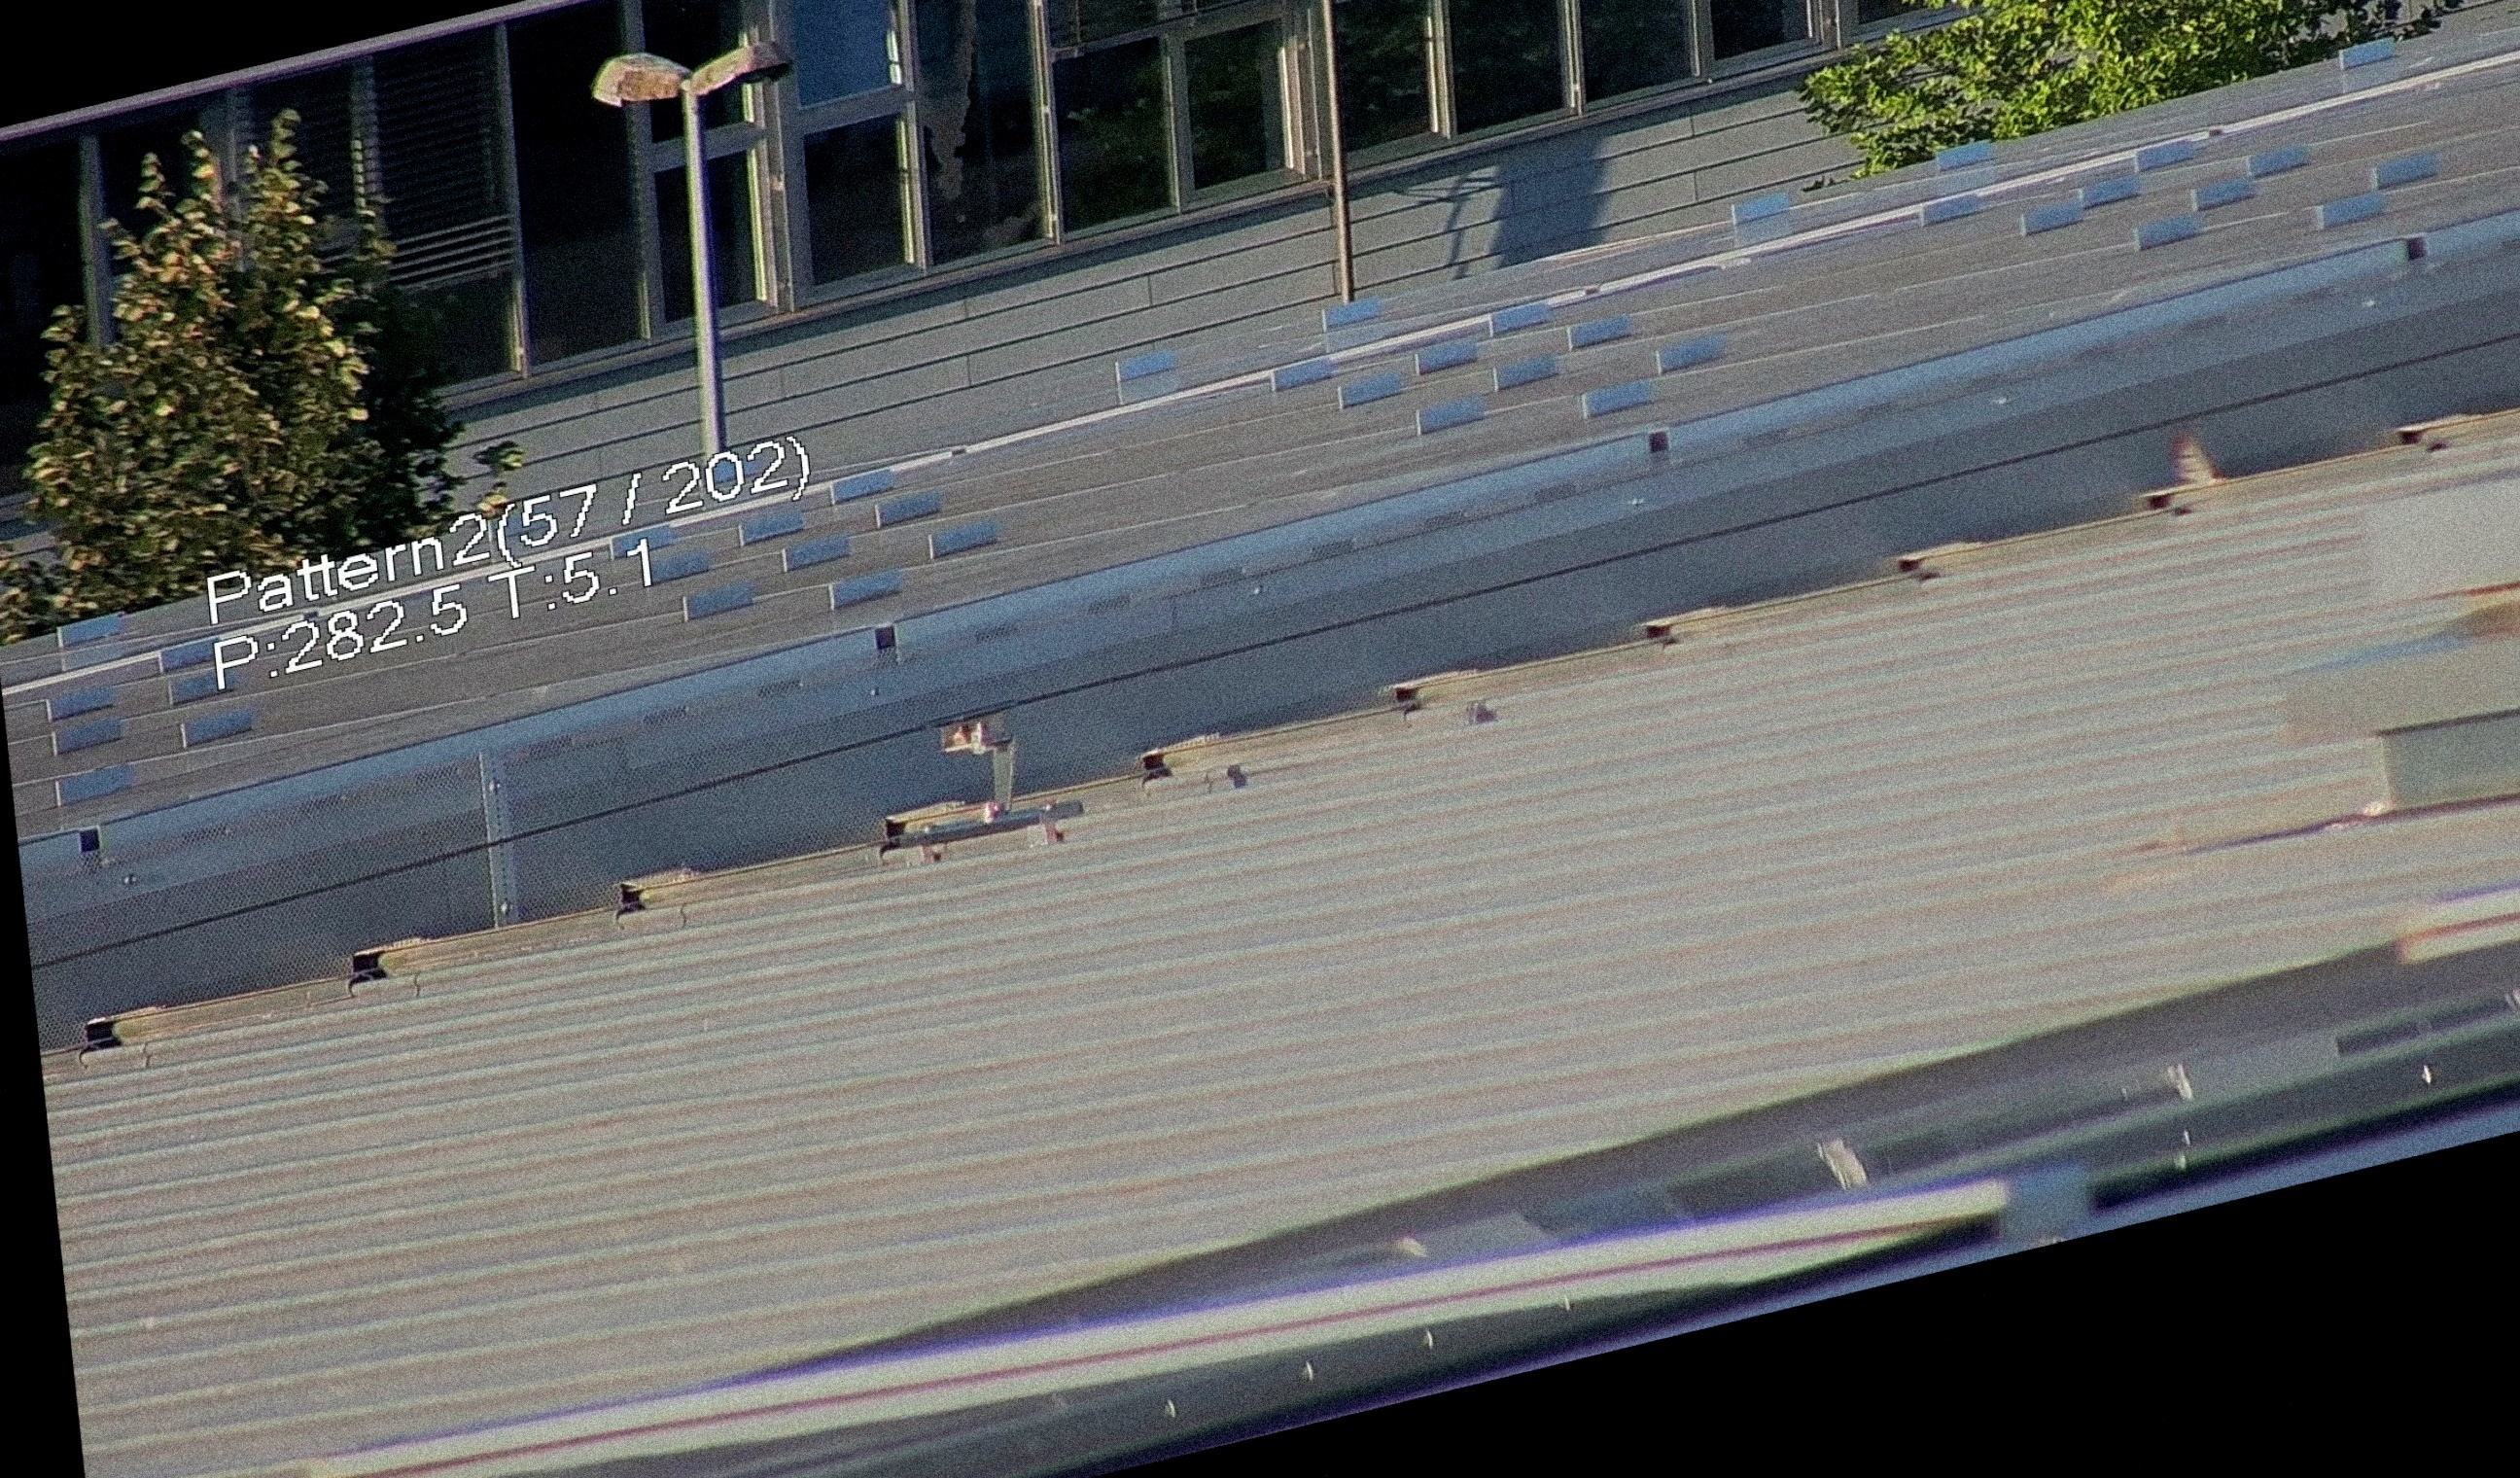Other: (2140, 398, 2246, 530)
